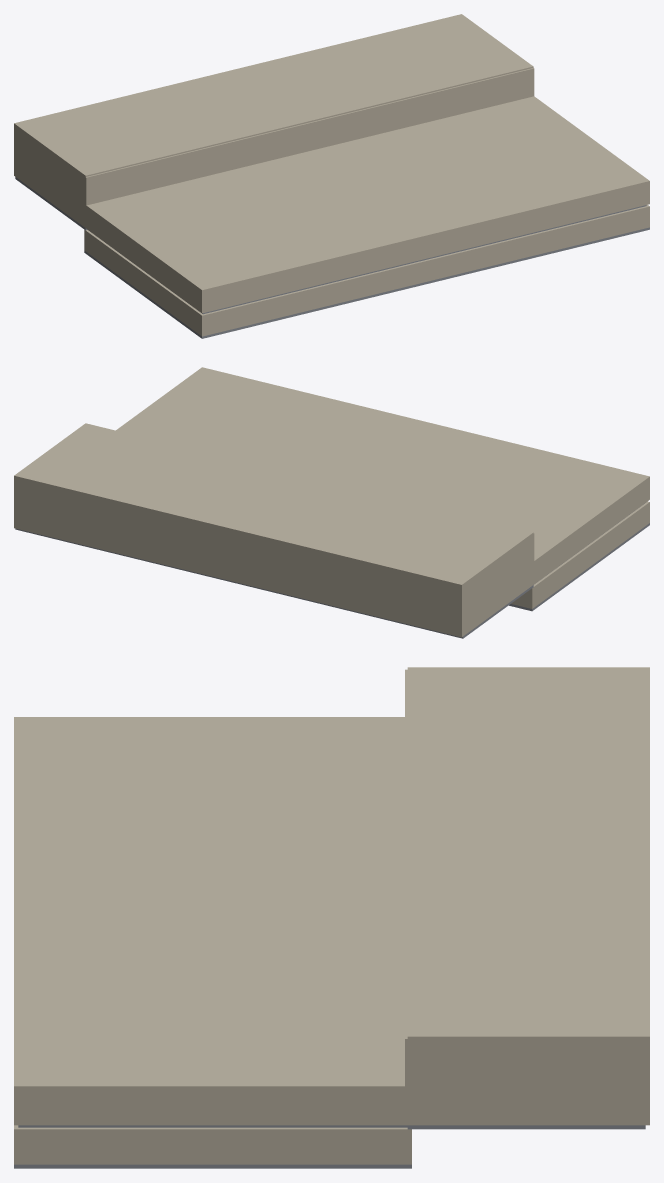
The model's file is tokyo_station.glb.
3 renders of one model, top to bottom at view 1: azimuth 30°, elevation 25°; view 2: azimuth 150°, elevation 25°; view 3: azimuth 270°, elevation 25°, orthographic. The views are drawn at different scales.
Parts seen in each view (by area): view 1: conc-roof, hall-roof, hall-wall-s-upper, b1-wall-s, conc-wall-s, hall-wall-w, b1-wall-w, conc-wall-w, b1-floor; view 2: conc-roof, hall-roof, hall-wall-n, hall-wall-w, b1-wall-w, conc-wall-w, hall-floor, b1-floor; view 3: conc-roof, hall-roof, hall-wall-e, b1-wall-e, conc-wall-e, b1-floor, hall-wall-s-upper, hall-floor, conc-floor-38-0.
Part boxes in pixels (x1=…): conc-roof: x1=86, y1=96, x2=649, y2=292; hall-roof: x1=14, y1=14, x2=533, y2=176; hall-wall-s-upper: x1=85, y1=68, x2=534, y2=207; b1-wall-s: x1=201, y1=206, x2=649, y2=336; conc-wall-s: x1=201, y1=183, x2=649, y2=313; hall-wall-w: x1=15, y1=126, x2=84, y2=227; b1-wall-w: x1=85, y1=230, x2=203, y2=336; conc-wall-w: x1=85, y1=208, x2=204, y2=312; b1-floor: x1=84, y1=227, x2=649, y2=338; conc-roof: x1=116, y1=367, x2=649, y2=563; hall-roof: x1=14, y1=423, x2=533, y2=586; hall-wall-n: x1=14, y1=477, x2=462, y2=637; hall-wall-w: x1=463, y1=534, x2=533, y2=636; b1-wall-w: x1=533, y1=502, x2=649, y2=607; conc-wall-w: x1=533, y1=479, x2=649, y2=584; hall-floor: x1=15, y1=528, x2=533, y2=638; b1-floor: x1=509, y1=523, x2=649, y2=611; conc-roof: x1=14, y1=717, x2=407, y2=1089; hall-roof: x1=407, y1=667, x2=649, y2=1038; hall-wall-e: x1=407, y1=1039, x2=645, y2=1125; b1-wall-e: x1=14, y1=1127, x2=407, y2=1164; conc-wall-e: x1=14, y1=1090, x2=407, y2=1125; b1-floor: x1=14, y1=1164, x2=411, y2=1168; hall-wall-s-upper: x1=405, y1=669, x2=409, y2=1088; hall-floor: x1=407, y1=1125, x2=645, y2=1129; conc-floor-38-0: x1=18, y1=1125, x2=407, y2=1127.
Size of the model in its own units: 101 by 16.8 by 73.5.
